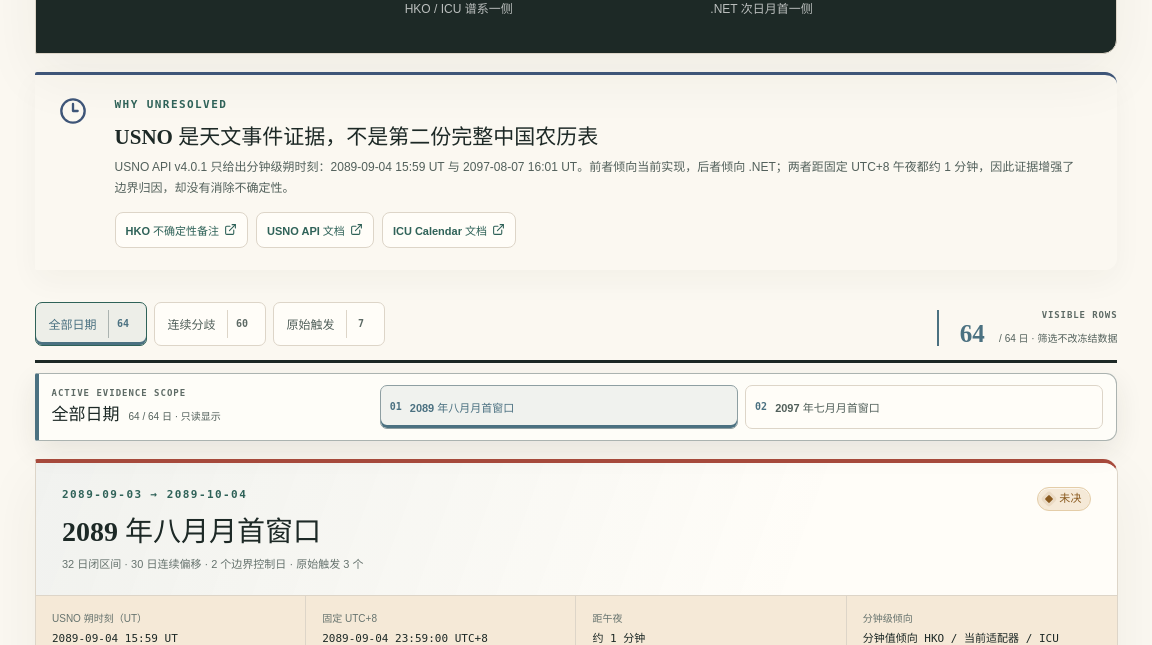
CalendarDivergenceAuditPage › 用真实交互筛选 60 日分歧与 7 个原始触发，不改写冻结数据
(page scrolled)
Click the button "连续分歧 60": (210, 324) [154,302,266,346]
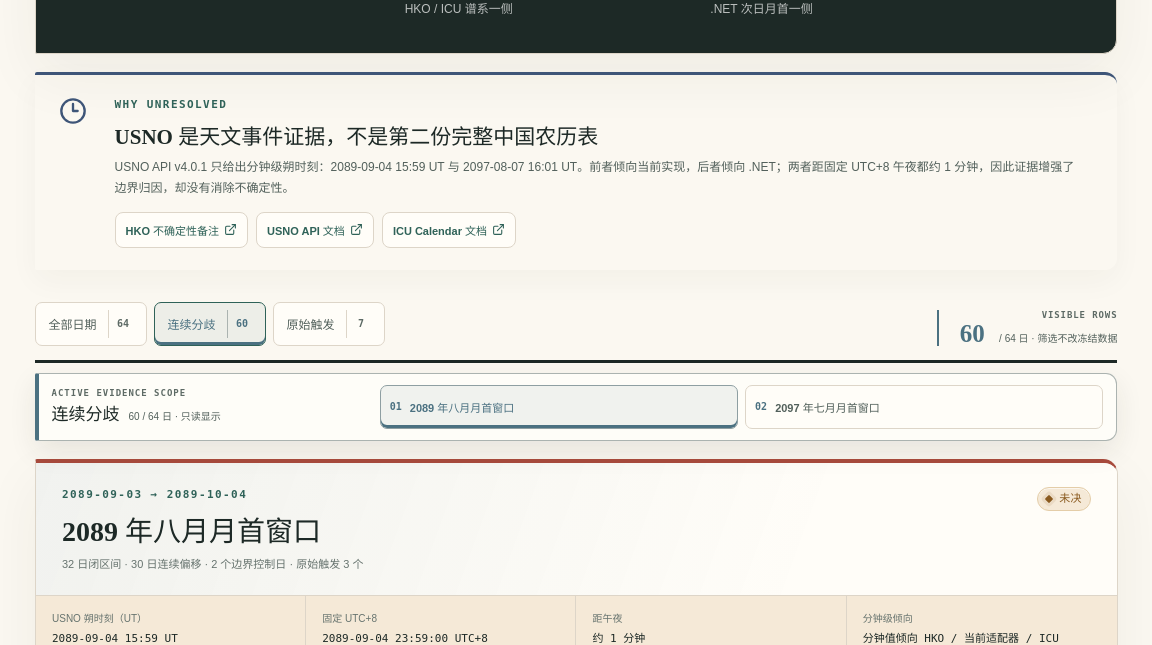
Expected: the button "连续分歧 60" is pressed, [154,302,266,346]
Click the button "原始触发 7": (329, 324) [273,302,385,346]
(page scrolled)
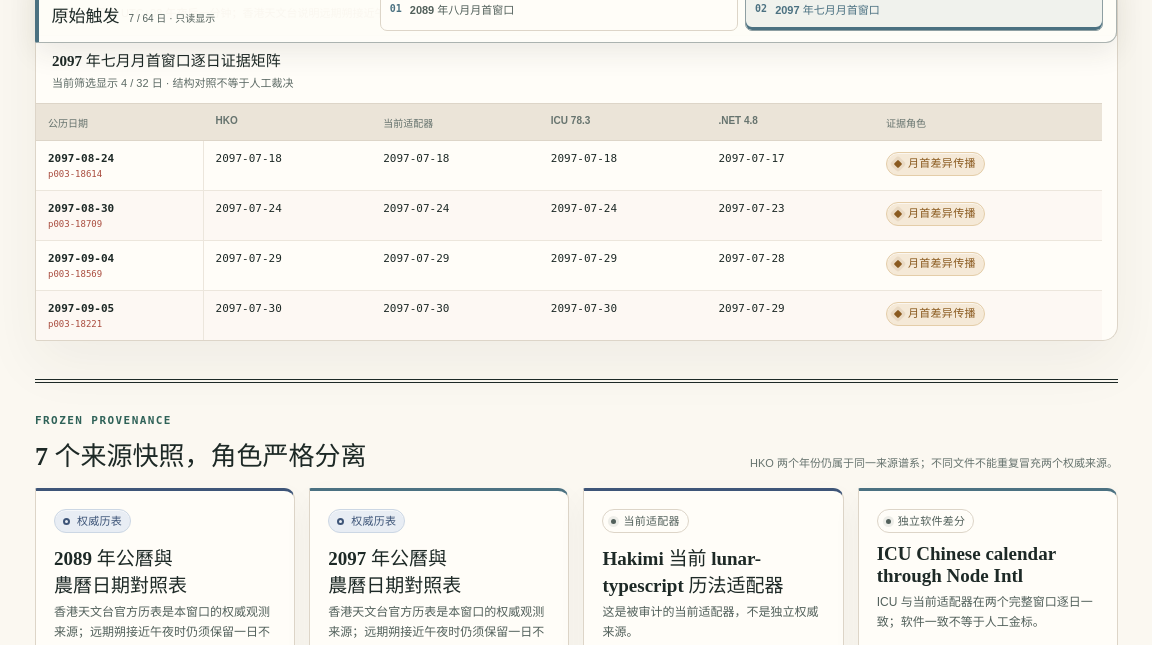
Expected: the text "p003-18221" is shown, [48,319,102,329]
